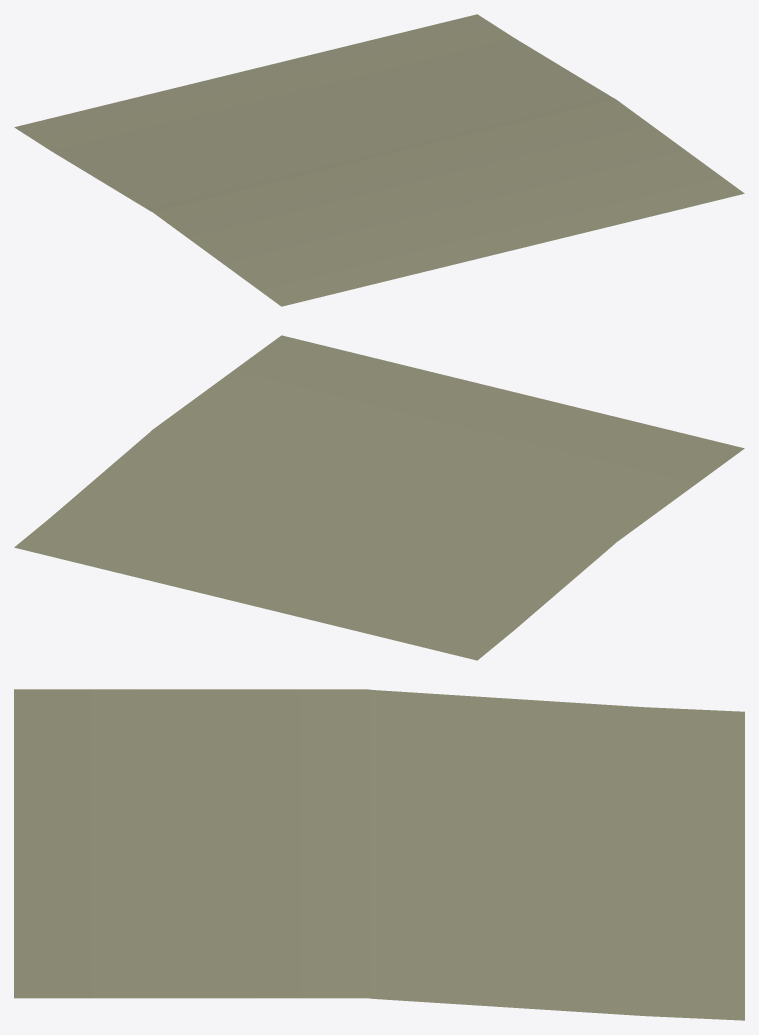
File: SM_VB_CityTerrain_8_2.fbx
The picture shows the model from 3 angles, top to bottom: view 1: azimuth 30°, elevation 25°; view 2: azimuth 150°, elevation 25°; view 3: azimuth 270°, elevation 25°; orthographic projection. The views are drawn at different scales.
Visible parts, largest first — view 1: SM_VB_CityTerrain_8_2; view 2: SM_VB_CityTerrain_8_2; view 3: SM_VB_CityTerrain_8_2.
Boxes of the visible parts, x1,y1,x2,y2 form: SM_VB_CityTerrain_8_2: [14, 14, 744, 306]; SM_VB_CityTerrain_8_2: [14, 335, 744, 660]; SM_VB_CityTerrain_8_2: [14, 689, 744, 1020].
Bounding box in the file's own units: 600 × 20.29 × 600.
